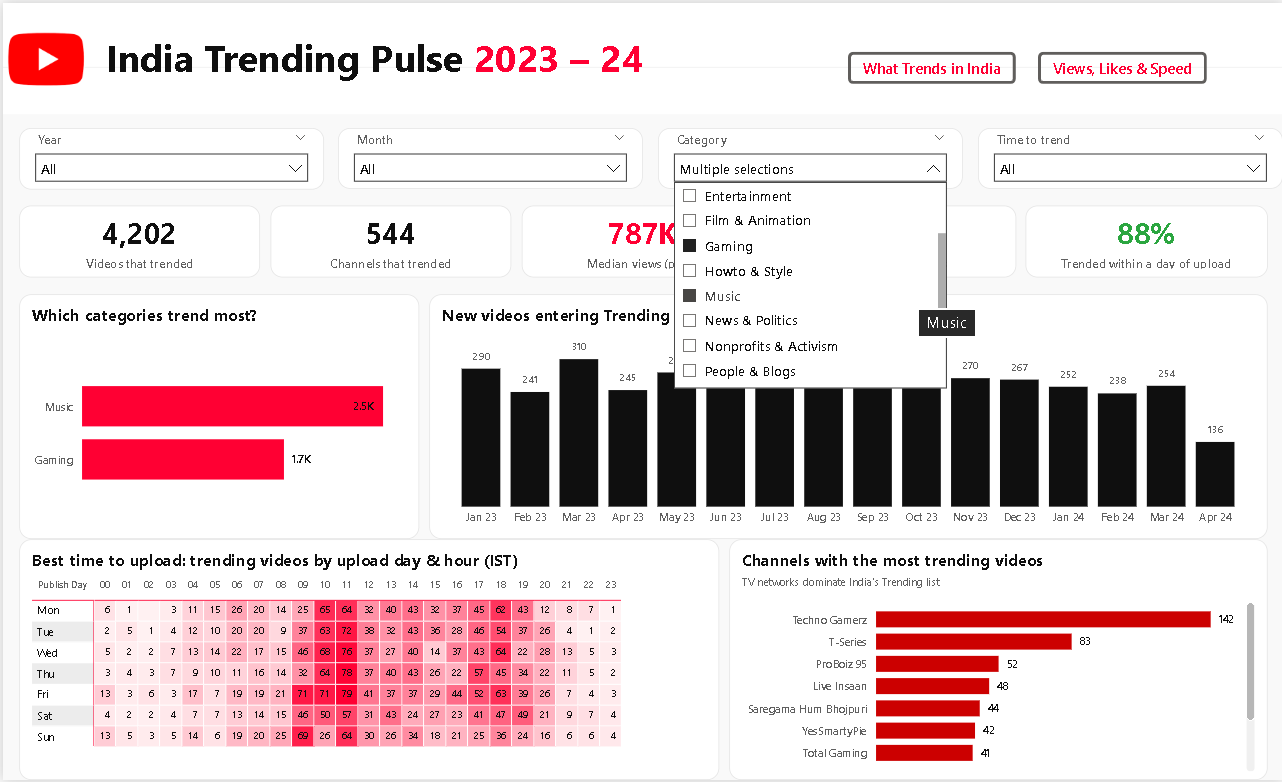

This screenshot's page, from the dashboard's own definition file:
{"tool":"powerbi","page":{"name":"What Trends in India","canvas":[1280,777],"ordinal":0},"visuals":[{"type":"shape","box":[0,0,1280,111.1],"z":1000},{"type":"shape","box":[0,64,1280,1],"z":2000},{"type":"textbox","box":[97.8,23.3,674.4,83.3],"z":5000},{"type":"actionButton","box":[845.6,48.9,167.8,32.2],"z":7000},{"type":"actionButton","box":[1035.6,48.9,168.9,32.2],"z":8000},{"type":"slicer","fields":{"Values":["Videos.Trending Year"]},"box":[15.9,124.8,304.8,61.2],"z":9000},{"type":"slicer","fields":{"Values":["Videos.Trending Month"]},"box":[335.6,124.4,304.4,61.1],"z":10000},{"type":"slicer","fields":{"Values":["Categories.Category"]},"box":[655.6,124.4,304.4,61.1],"z":11000},{"type":"slicer","fields":{"Values":["Videos.Time to Trend"]},"box":[975.6,124.4,304.4,61.1],"z":12000},{"type":"card","fields":{"Values":["Videos.Trending Videos"]},"box":[15.9,202,241.1,72.2],"z":13000},{"type":"card","fields":{"Values":["Videos.Channels Trending"]},"box":[268.1,202,241.1,72.2],"z":14000},{"type":"card","fields":{"Values":["Videos.Median Views"]},"box":[519,202,242.4,72.2],"z":15000},{"type":"card","fields":{"Values":["Videos.Like Rate %"]},"box":[772.4,202,241.1,72.2],"z":16000},{"type":"card","fields":{"Values":["Videos.Same or Next Day %"]},"box":[1022.1,202,242.4,72.2],"z":17000},{"type":"clusteredBarChart","title":"Which categories trend most?","fields":{"Category":["Categories.Category"],"Y":["Videos.Trending Videos"]},"box":[15.9,291.3,400.3,244.8],"z":18000},{"type":"clusteredColumnChart","title":"New videos entering Trending each month","fields":{"Category":["Videos.Trending Month"],"Y":["Videos.Trending Videos"]},"box":[426,291.3,838.4,244.8],"z":19000},{"type":"pivotTable","title":"Best time to upload: trending videos by upload day & hour (IST)","fields":{"Rows":["Videos.Publish Day"],"Columns":["Videos.Publish Hour"],"Values":["Videos.Trending Videos"]},"box":[15.9,536.1,700.1,241.1],"z":20000},{"type":"clusteredBarChart","title":"Channels with the most trending videos","fields":{"Category":["Channels.Channel"],"Y":["Videos.Trending Videos"]},"box":[725.8,536.1,538.6,241.1],"z":21000},{"type":"image","box":[0,13.3,86.7,85.6],"z":21001}]}

Visuals, with their boxes in screenshot pixels (x1, y1, x2, y2), scaled from the page's 1280x777 canvas onto the 1282x782 screenshot:
shape: [0, 0, 1281, 112]
shape: [0, 64, 1281, 65]
textbox: [98, 23, 773, 107]
actionButton: [847, 49, 1015, 82]
actionButton: [1037, 49, 1206, 82]
slicer - Videos.Trending Year: [16, 126, 321, 187]
slicer - Videos.Trending Month: [336, 125, 641, 187]
slicer - Categories.Category: [657, 125, 961, 187]
slicer - Videos.Time to Trend: [977, 125, 1281, 187]
card - Videos.Trending Videos: [16, 203, 257, 276]
card - Videos.Channels Trending: [269, 203, 510, 276]
card - Videos.Median Views: [520, 203, 763, 276]
card - Videos.Like Rate %: [774, 203, 1015, 276]
card - Videos.Same or Next Day %: [1024, 203, 1266, 276]
"Which categories trend most?" clusteredBarChart: [16, 293, 417, 540]
"New videos entering Trending each month" clusteredColumnChart: [427, 293, 1266, 540]
"Best time to upload: trending videos by upload day & hour (IST)" pivotTable: [16, 540, 717, 781]
"Channels with the most trending videos" clusteredBarChart: [727, 540, 1266, 781]
image: [0, 13, 87, 100]
